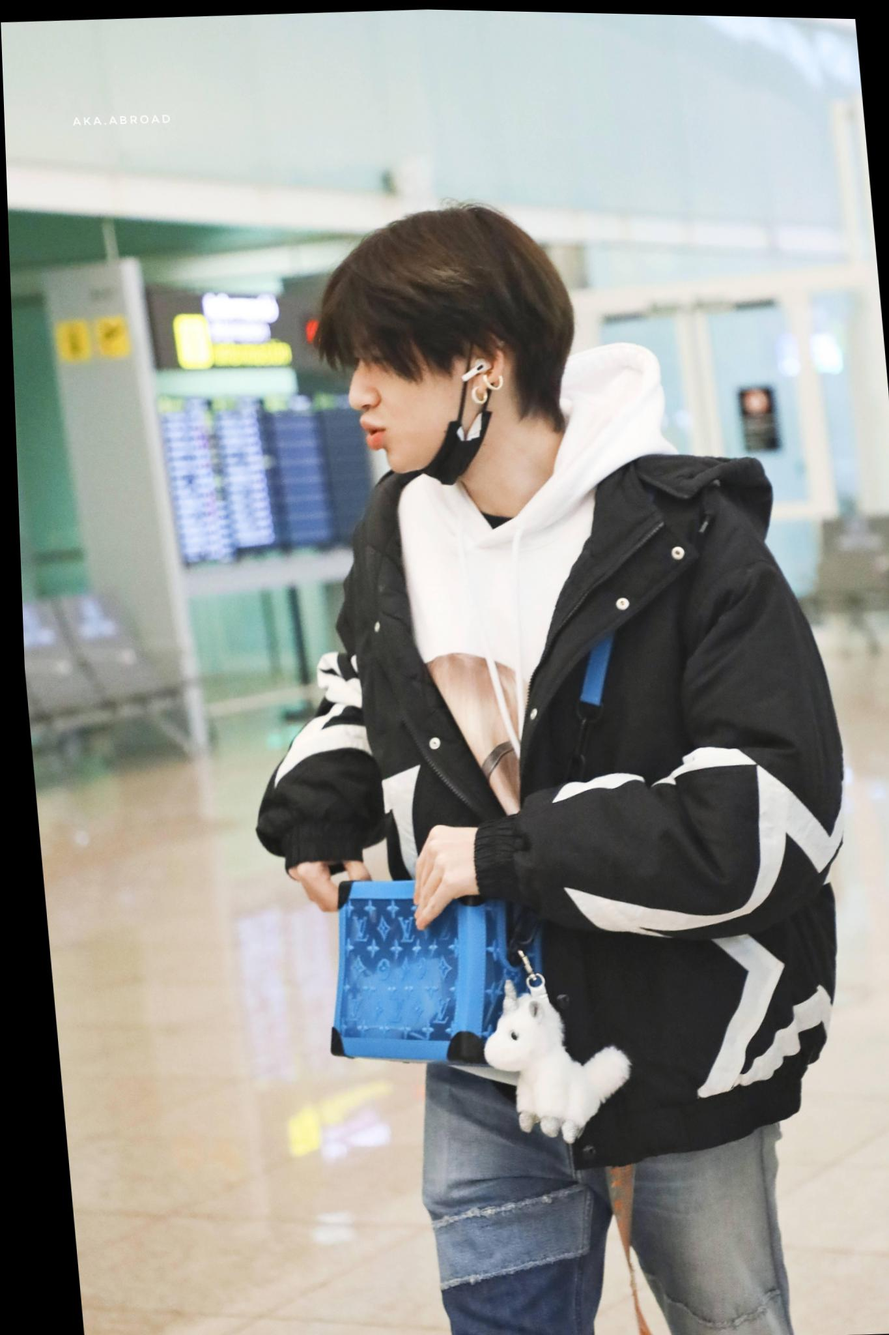WRONG: (338, 323, 465, 486)
